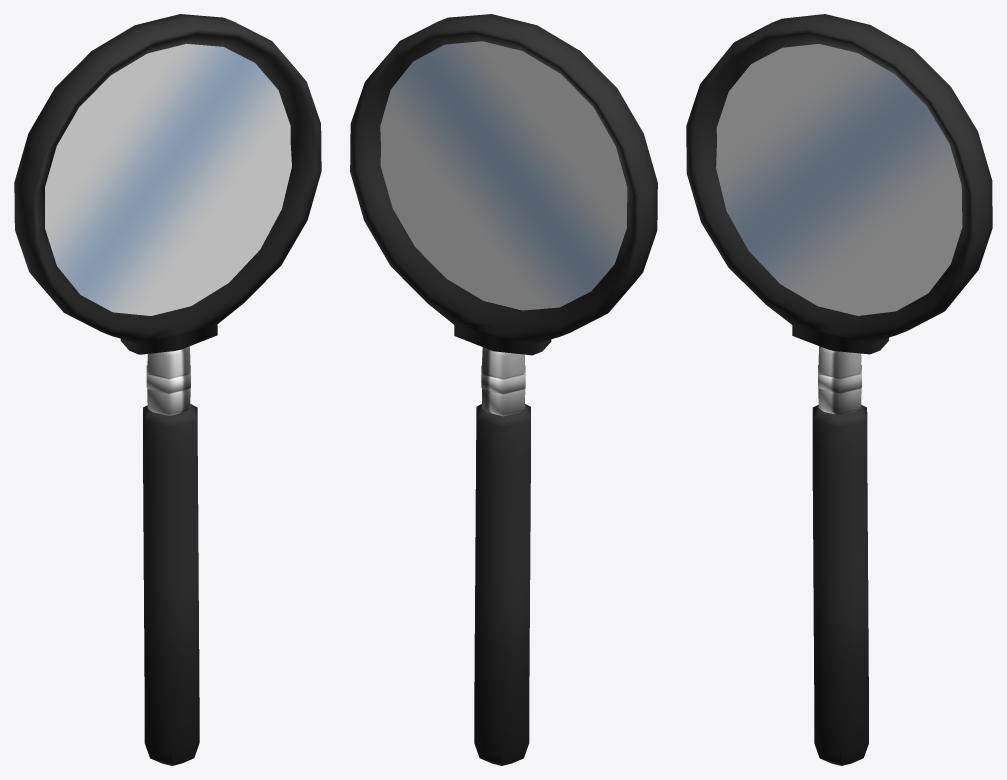
Rendered from HANDHELD_magnifyingglass.fbx.
The picture shows the model from 3 angles, left to right: view 1: azimuth 30°, elevation 25°; view 2: azimuth 150°, elevation 25°; view 3: azimuth 330°, elevation 25°; orthographic projection.
Parts seen in each view (by area): view 1: magnifying_glass_lens, magnifying_glass_handle; view 2: magnifying_glass_lens, magnifying_glass_handle; view 3: magnifying_glass_lens, magnifying_glass_handle.
Boxes of the visible parts, x1=… form: magnifying_glass_lens: x1=45, y1=43, x2=291, y2=315; magnifying_glass_handle: x1=14, y1=14, x2=321, y2=765; magnifying_glass_lens: x1=380, y1=41, x2=627, y2=310; magnifying_glass_handle: x1=350, y1=14, x2=657, y2=765; magnifying_glass_lens: x1=716, y1=44, x2=962, y2=315; magnifying_glass_handle: x1=686, y1=14, x2=992, y2=765.
Bounding box in the file's own units: 27.91 × 67.03 × 4.51.
1 material, 1 textured.
